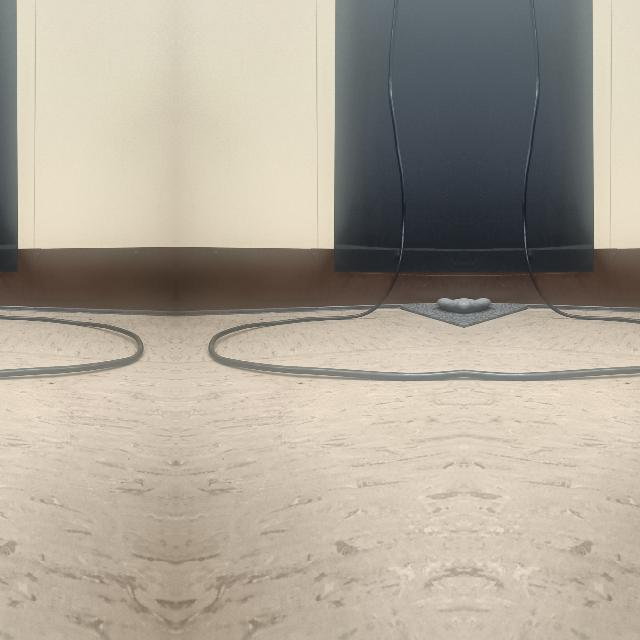obstacle: (209, 306, 463, 378), (464, 306, 640, 377), (0, 306, 141, 377)
